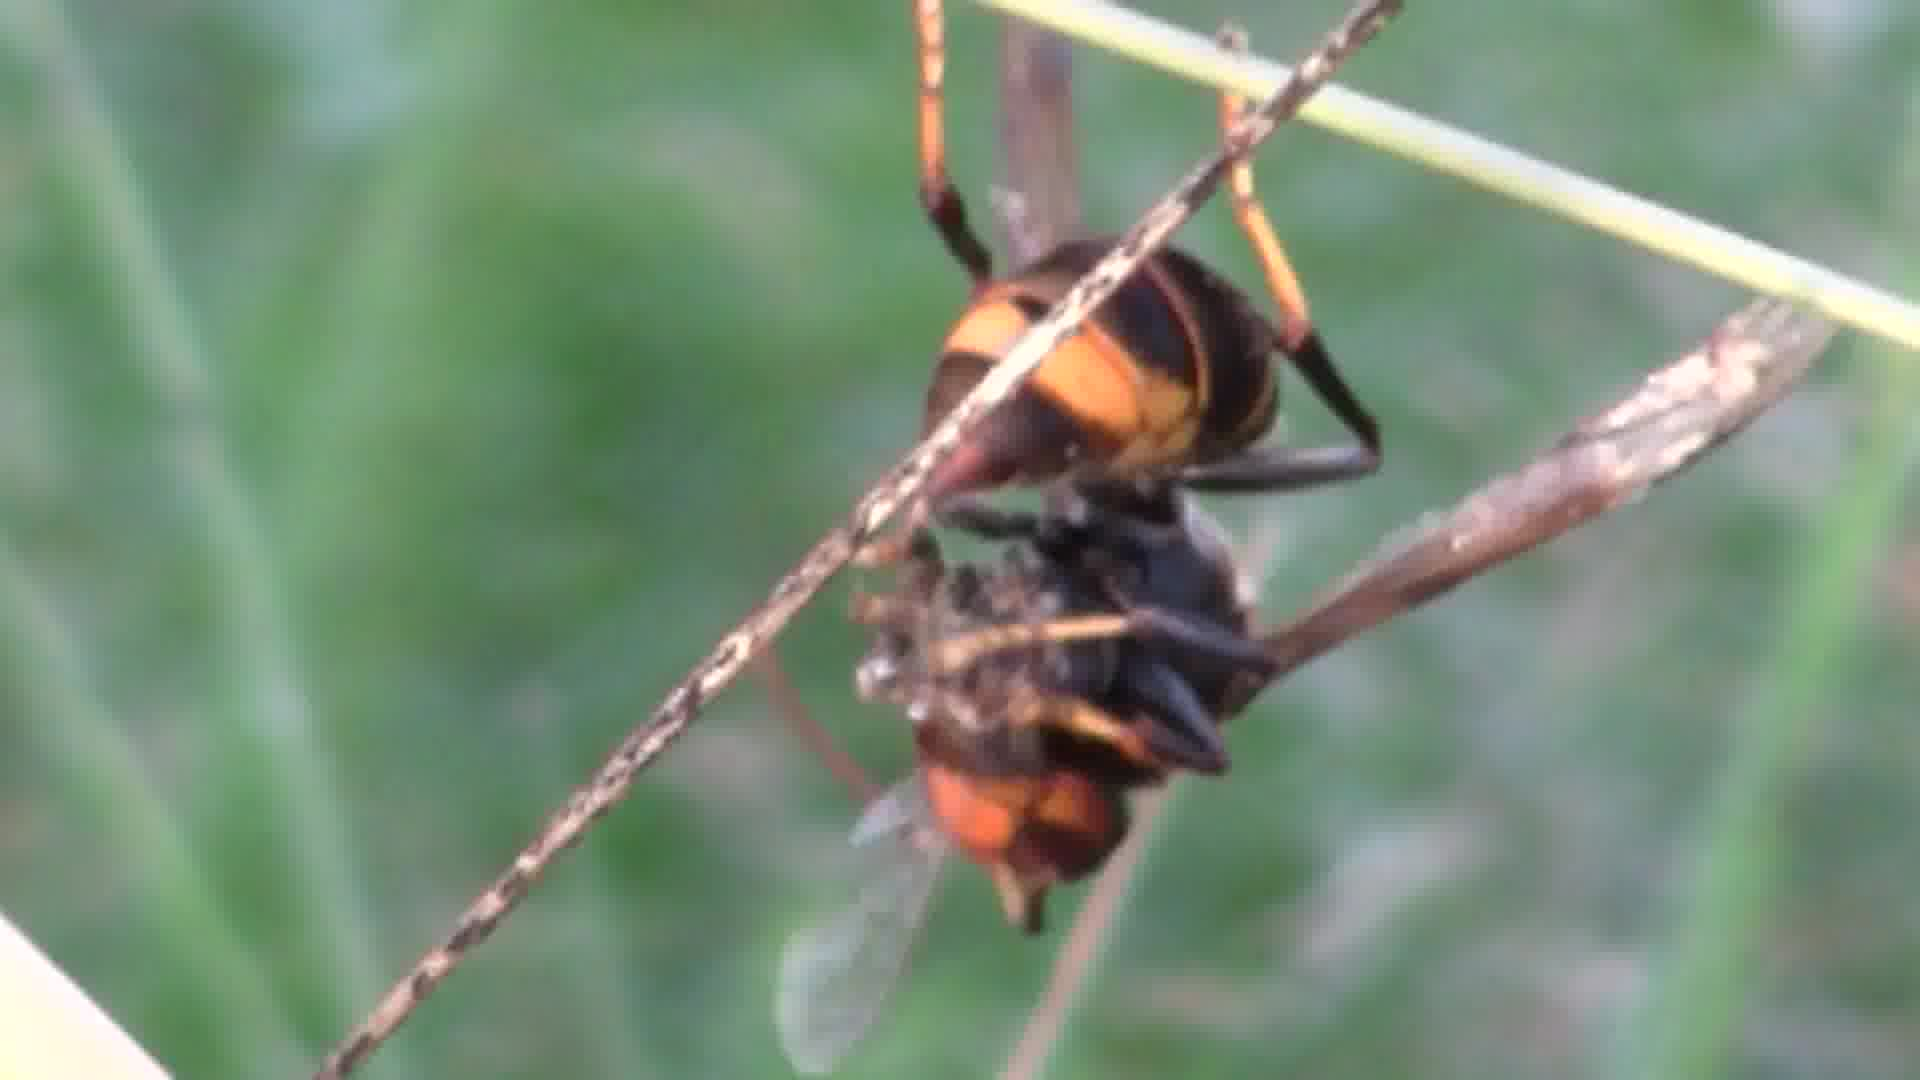hornet: (814, 11, 1425, 963)
